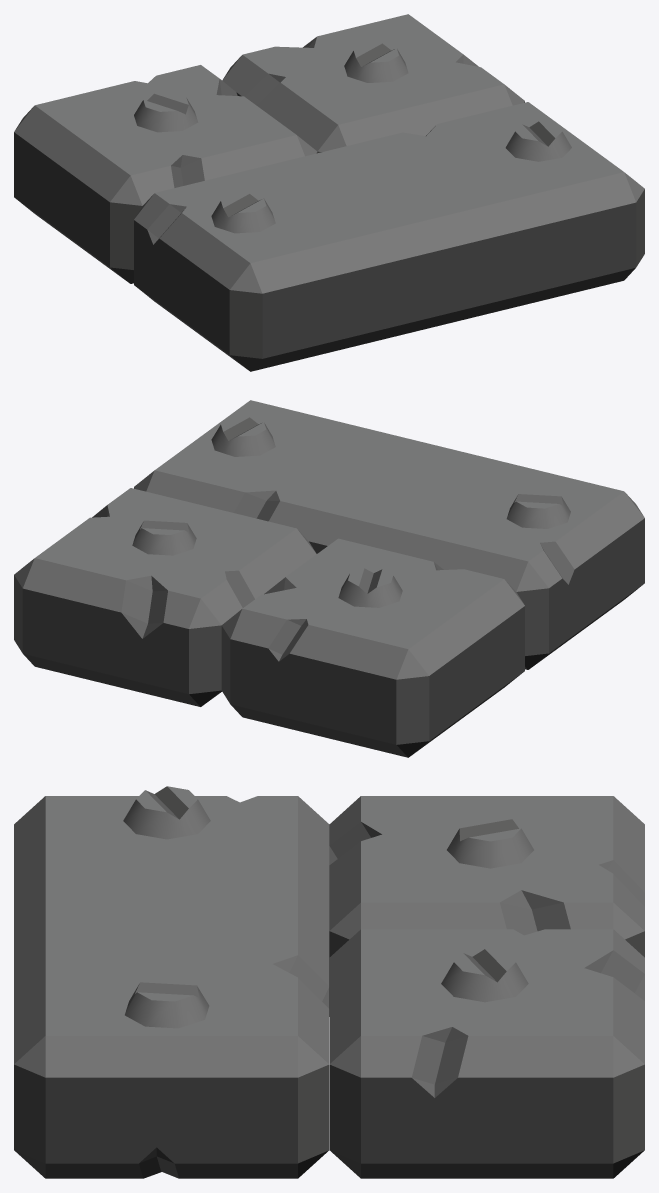
The model's file is m_kub_metalOld_flatMixed.FBX.
3 renders of one model, top to bottom at view 1: azimuth 30°, elevation 25°; view 2: azimuth 150°, elevation 25°; view 3: azimuth 270°, elevation 25°, orthographic. The views are drawn at different scales.
Parts seen in each view (by area): view 1: m_kub_metalOld_flatMixed; view 2: m_kub_metalOld_flatMixed; view 3: m_kub_metalOld_flatMixed.
Part boxes in pixels (x1,y1,x2,y2): m_kub_metalOld_flatMixed: (14,14,644,371); m_kub_metalOld_flatMixed: (14,400,644,757); m_kub_metalOld_flatMixed: (14,786,644,1178).
Size of the model in its own units: 2 by 0.5761 by 2.
